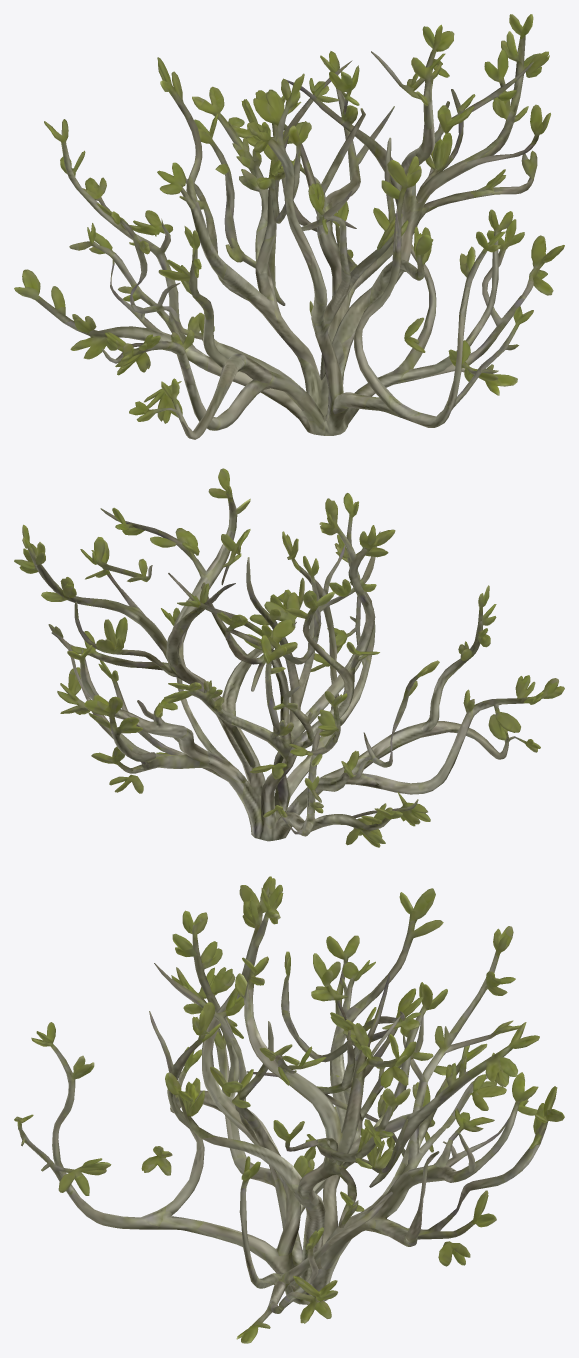
Rendered from desert-scrub.glb.
The picture shows the model from 3 angles, top to bottom: view 1: azimuth 30°, elevation 25°; view 2: azimuth 150°, elevation 25°; view 3: azimuth 270°, elevation 25°; orthographic projection. The views are drawn at different scales.
Bounding box in the file's own units: 1.9 × 1.31 × 1.7.
Materials: 1 (1 with a texture image).
